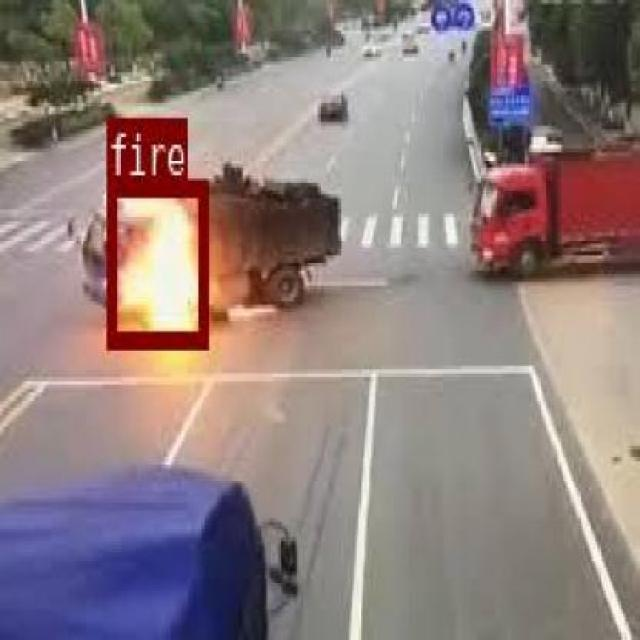Fire: (106, 177, 206, 346)
